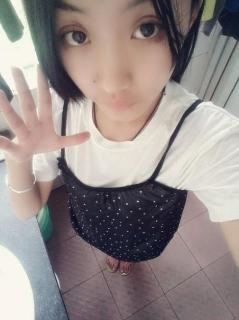sling dress: (57, 98, 205, 263)
